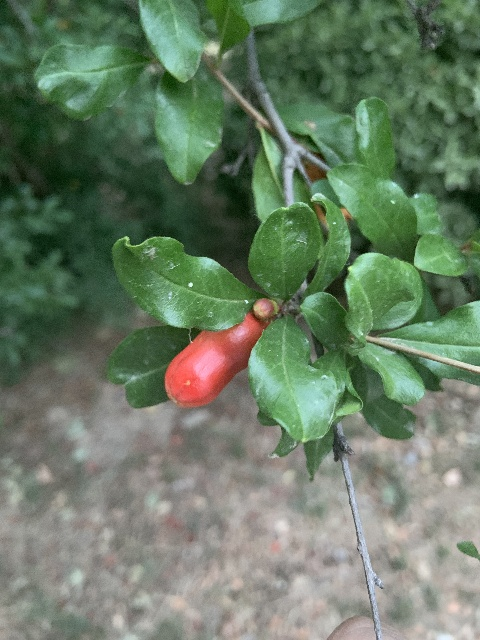bud: (164, 311, 265, 409), (252, 298, 276, 320)
